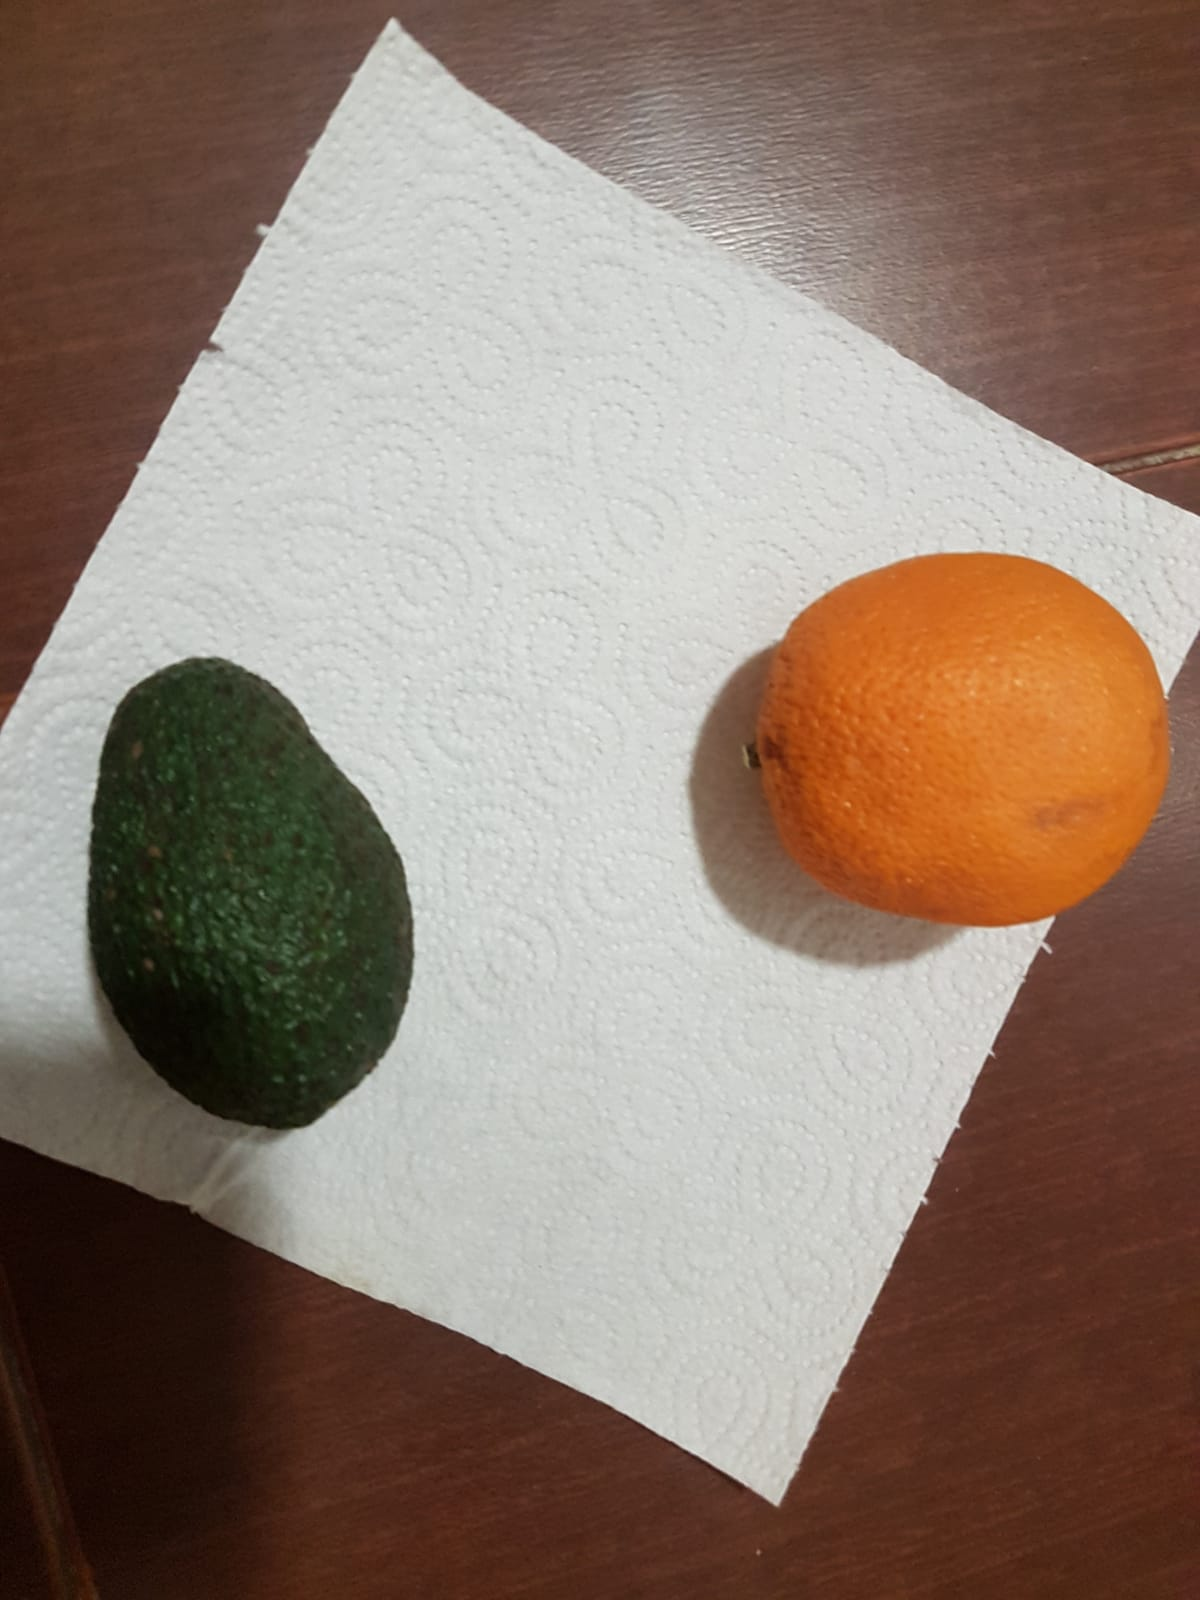Avocado: (95, 658, 424, 1133)
Orange: (747, 551, 1177, 918)
